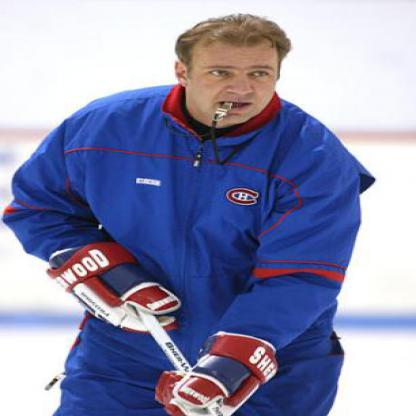face: (188, 21, 282, 126)
